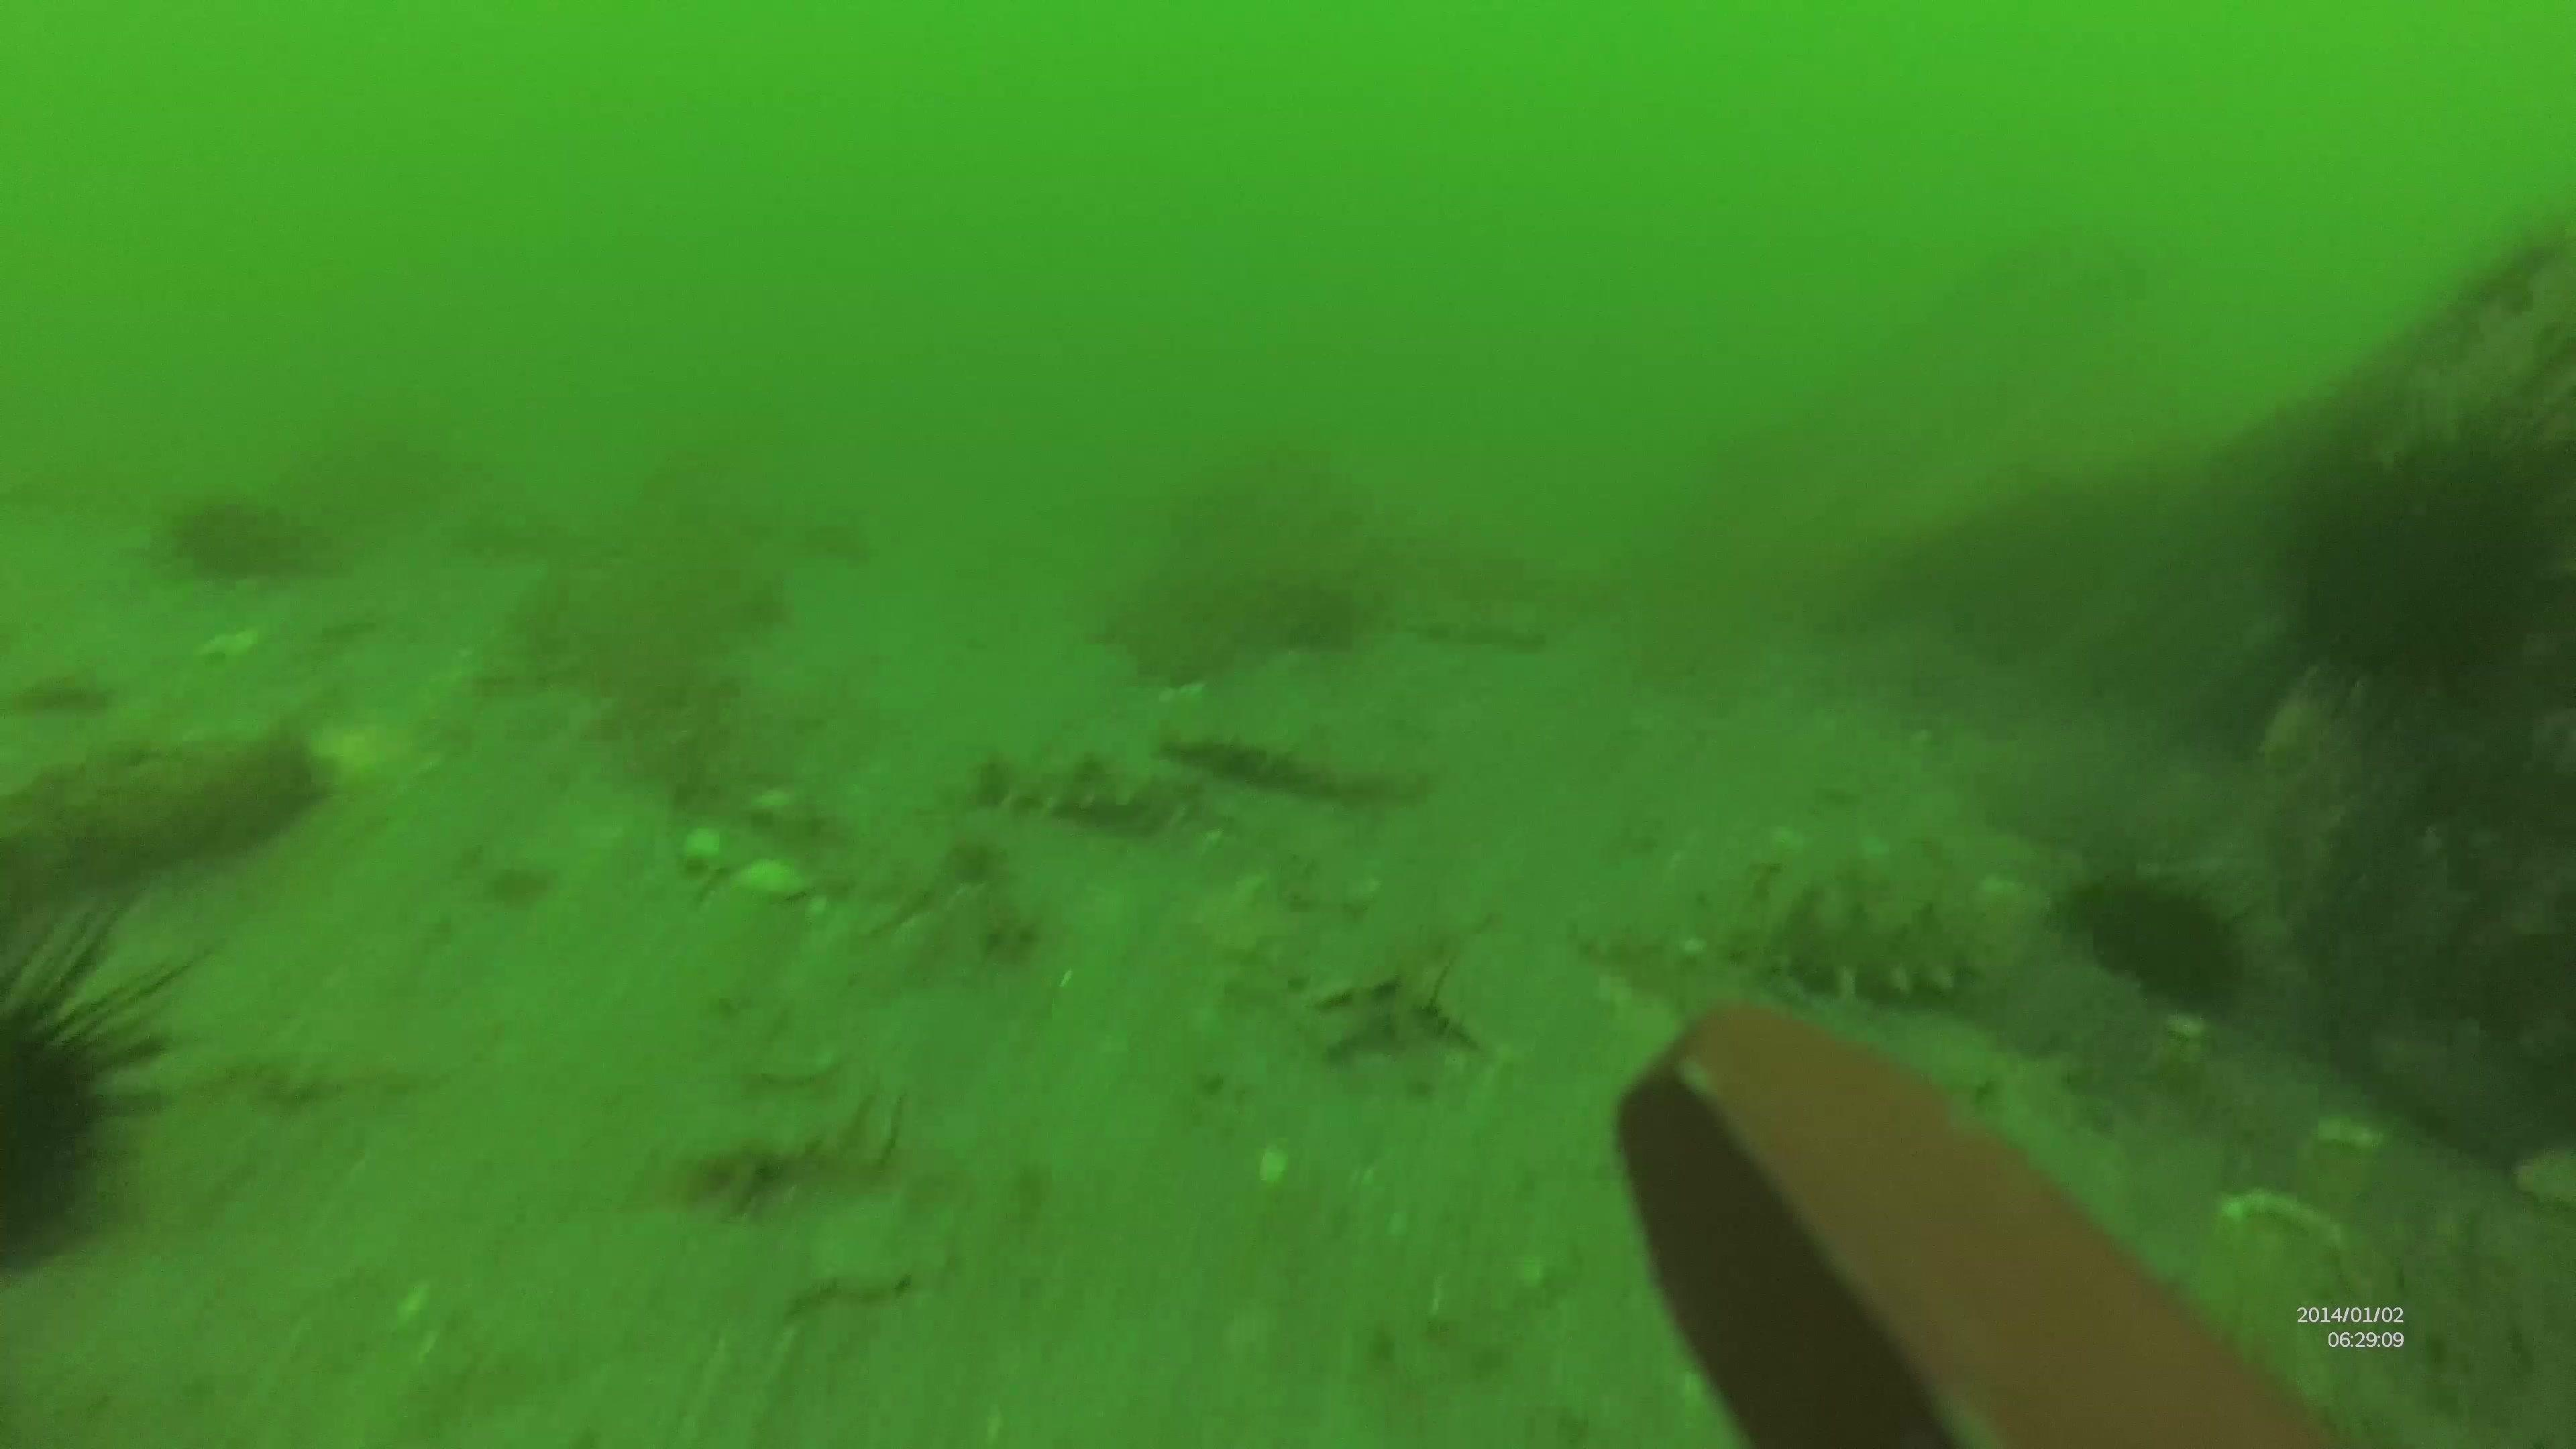echinus: (2286, 444, 2567, 720), (4, 892, 203, 1277), (2058, 856, 2235, 1023)
holothurian: (1713, 867, 1999, 1005), (1150, 706, 1449, 819), (970, 736, 1184, 846)
